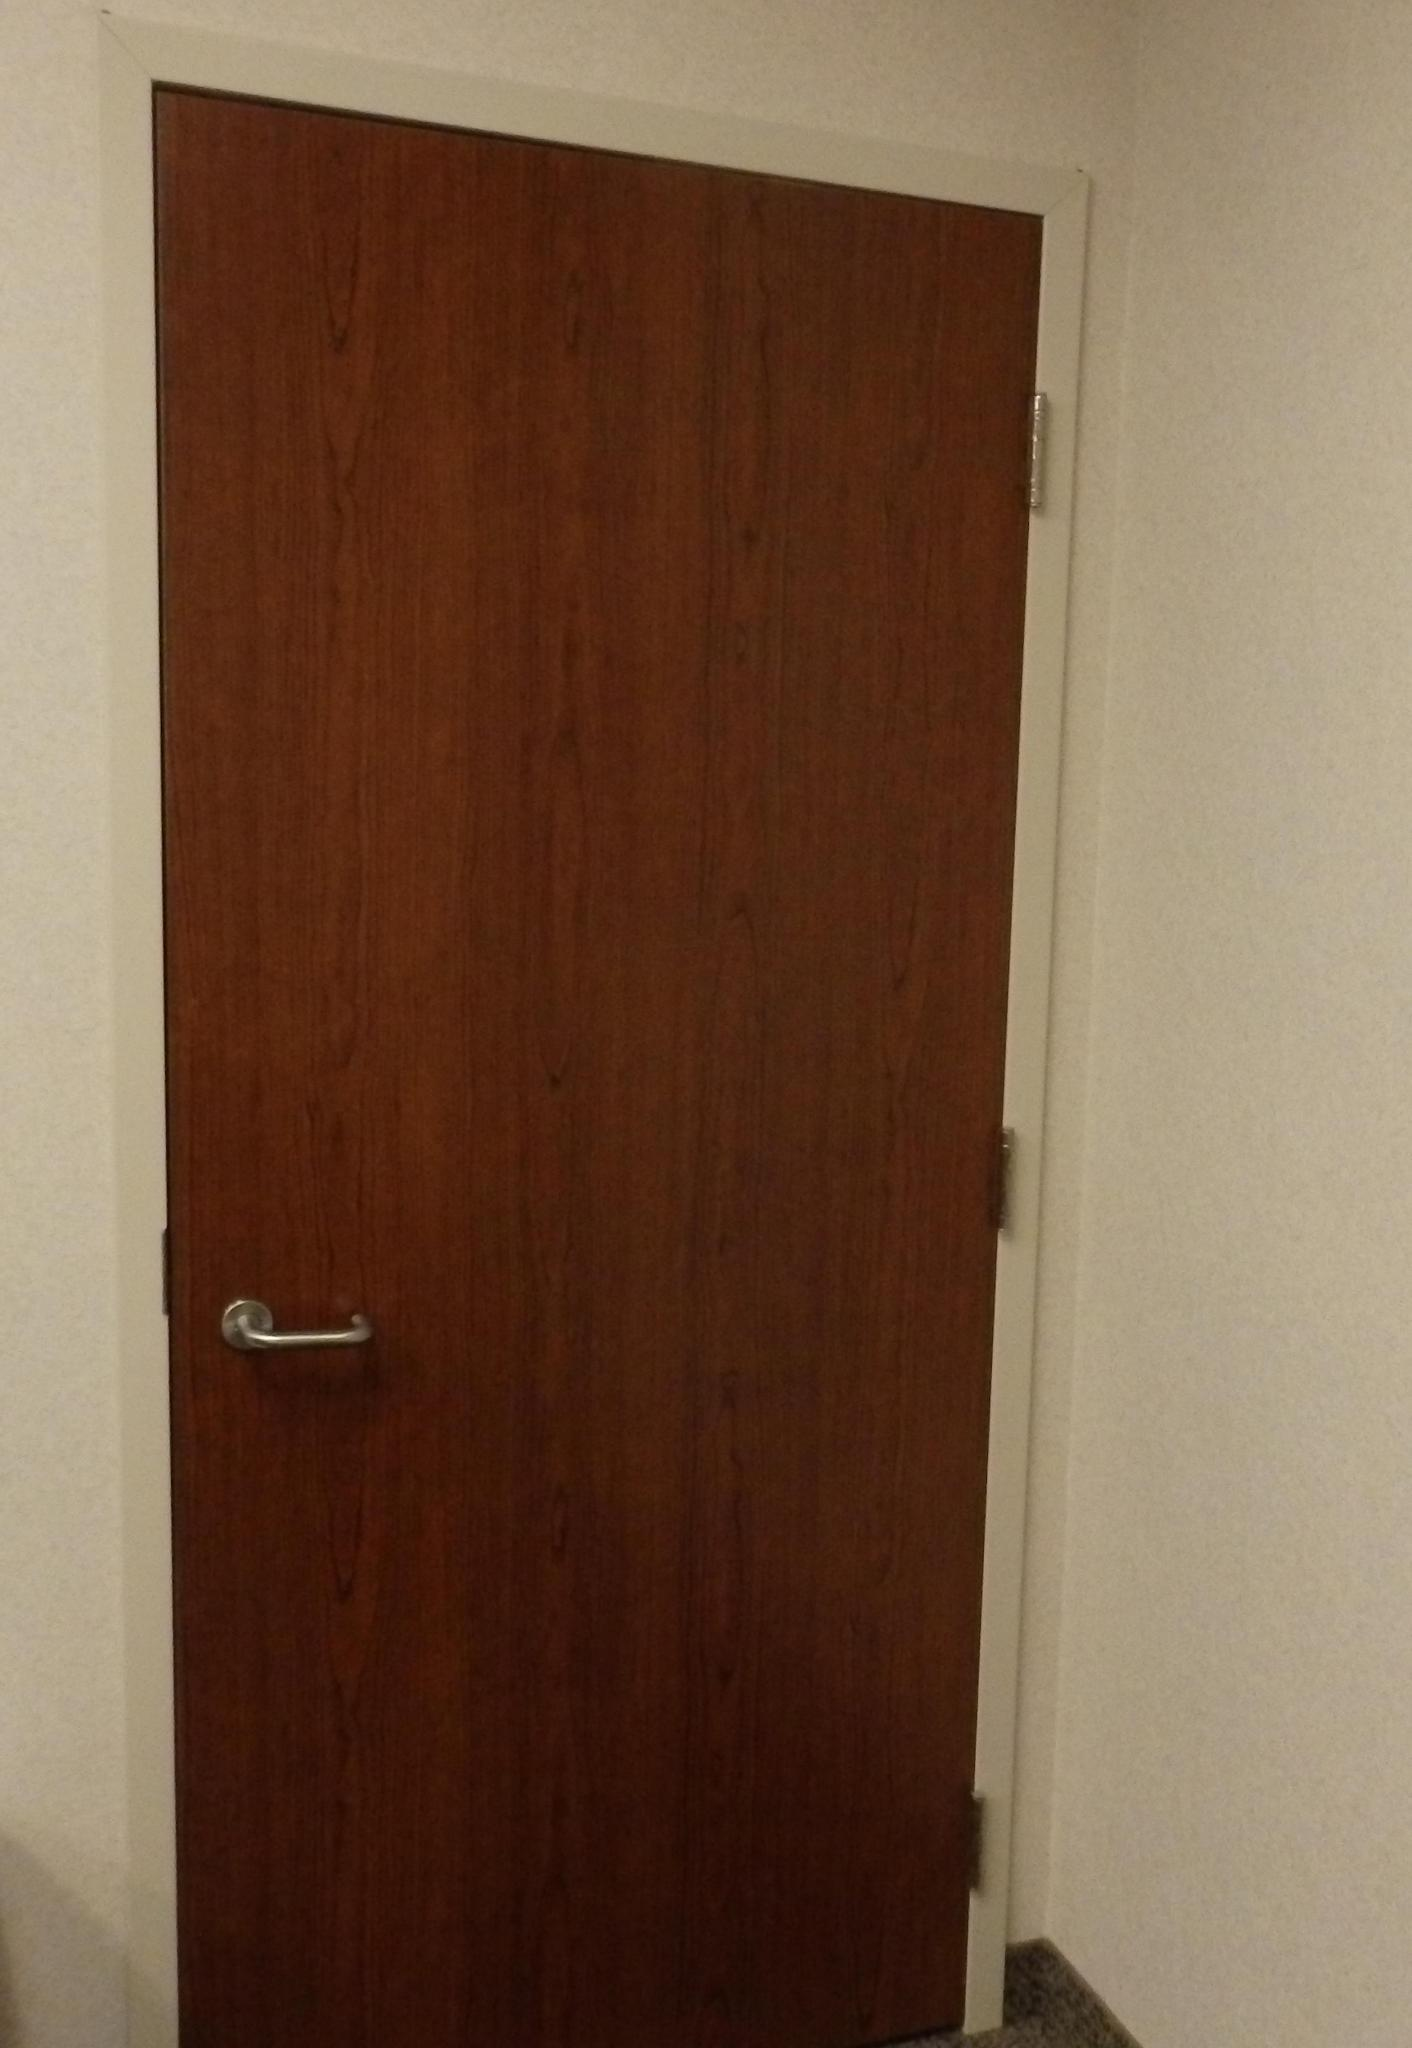door: (182, 258, 1018, 1980)
handle: (226, 1279, 374, 1376)
